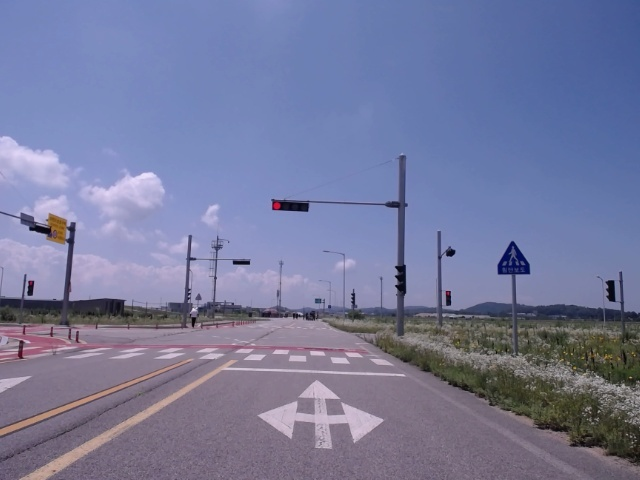red_4: (272, 202, 309, 212)
